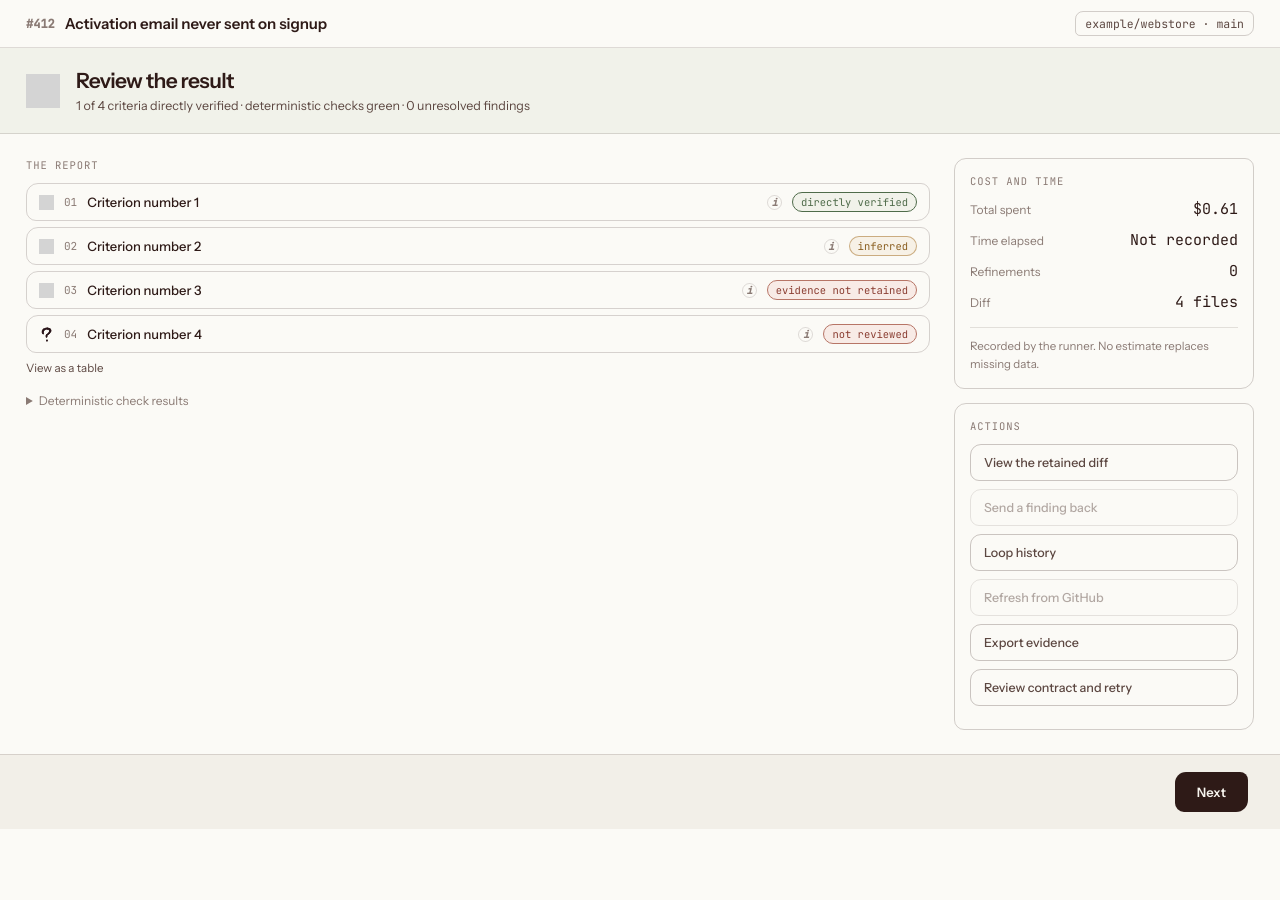
the review page's criterion cards › say the same words in the same cases as a table, under Established
The width and height of the screenshot is (1280, 900).
Click the button "View as a table".
click(65, 368)  # box top-left (26, 361), bottom-right (103, 375)
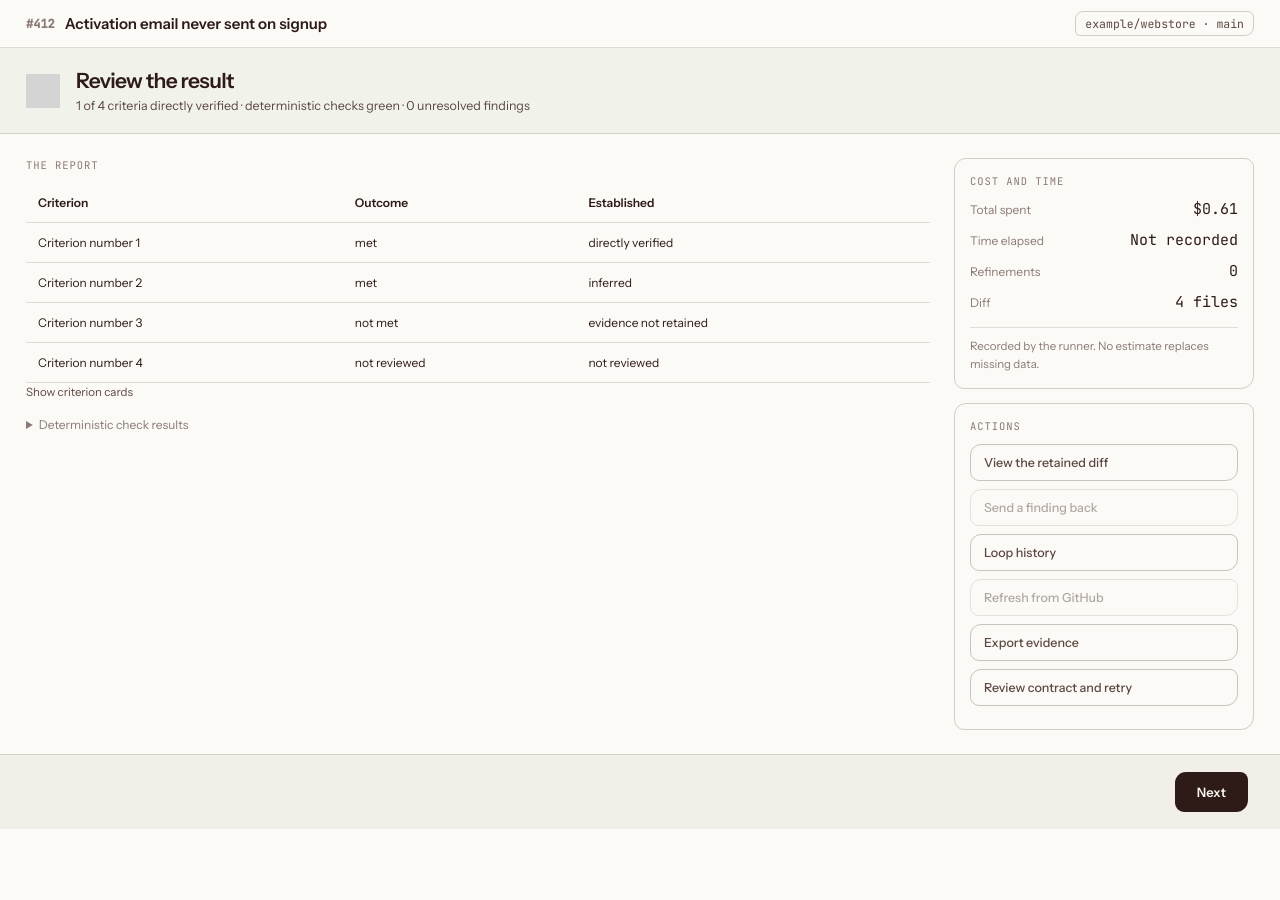
Result: the column headings read "Criterion", "Outcome", "Established", in this order at top-left (26, 183), bottom-right (343, 223); top-left (343, 183), bottom-right (576, 223); top-left (576, 183), bottom-right (930, 223)
